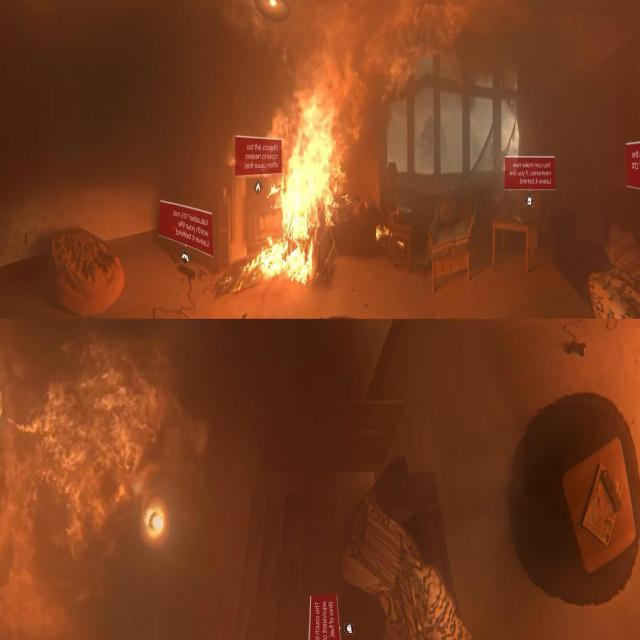smoke: (242, 91, 336, 290)
